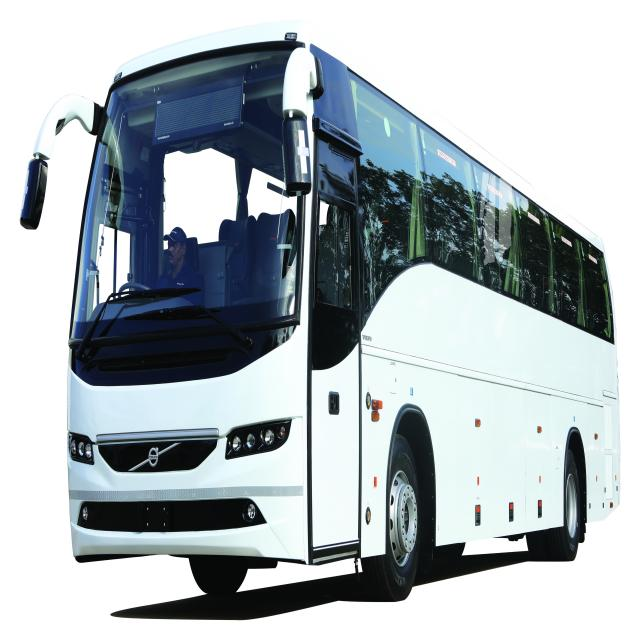bus: (22, 22, 621, 592)
